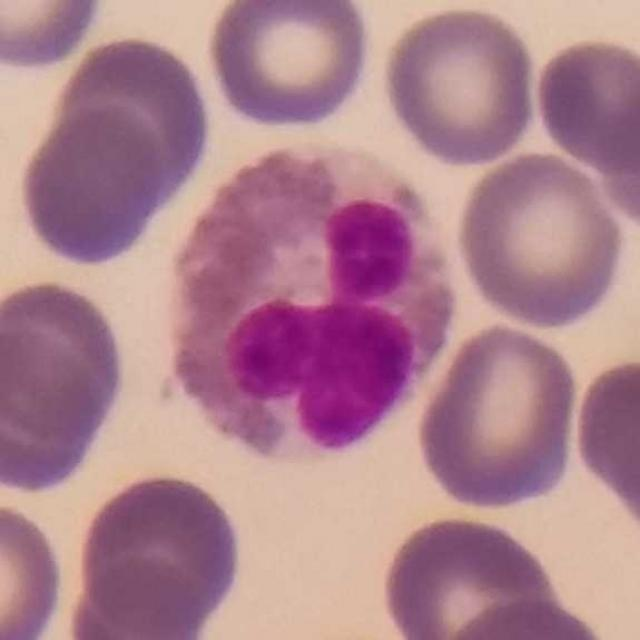Eosinophil: (158, 151, 463, 468)
RBC: (451, 148, 631, 333), (412, 320, 583, 514), (46, 30, 216, 213), (73, 468, 246, 634), (377, 2, 541, 170), (15, 102, 169, 270), (377, 511, 560, 640), (202, 0, 376, 134), (0, 323, 112, 495), (0, 280, 119, 439), (530, 32, 640, 174), (569, 351, 640, 542), (63, 556, 212, 640), (0, 497, 69, 640), (439, 594, 621, 640), (0, 0, 110, 75)
